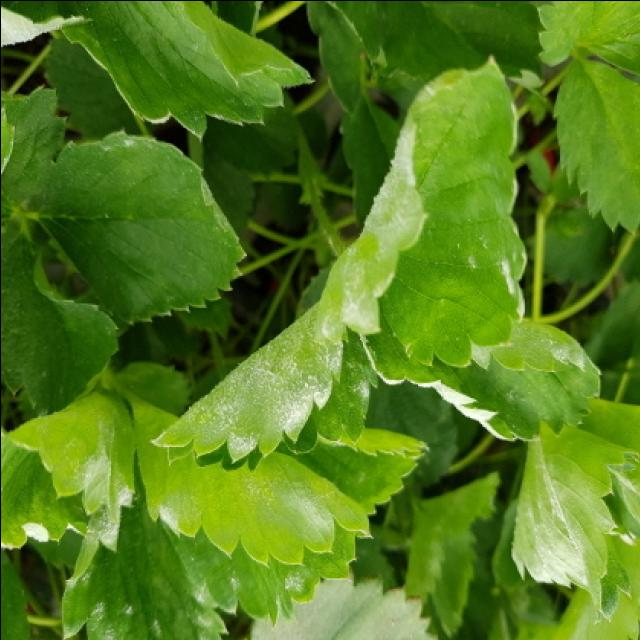Powdery Mildew Leaf: (316, 52, 529, 368), (129, 391, 372, 625), (146, 298, 378, 472), (354, 316, 604, 442), (60, 463, 227, 640), (509, 428, 638, 623), (0, 388, 135, 549)
